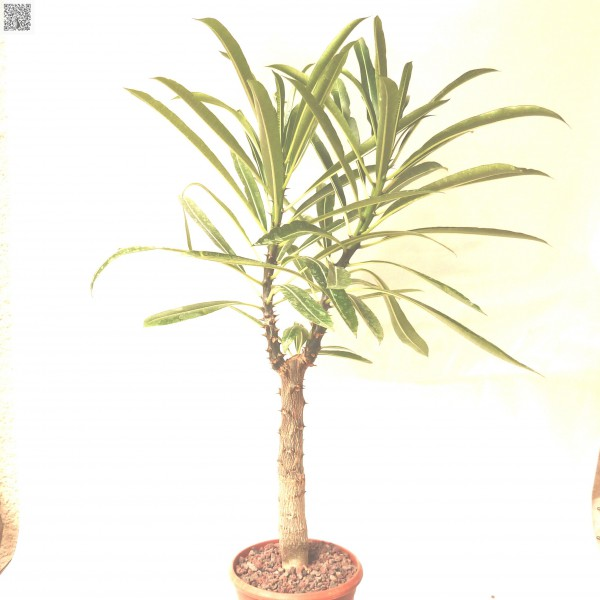Pachypodium meridionale: (142, 16, 473, 581)
